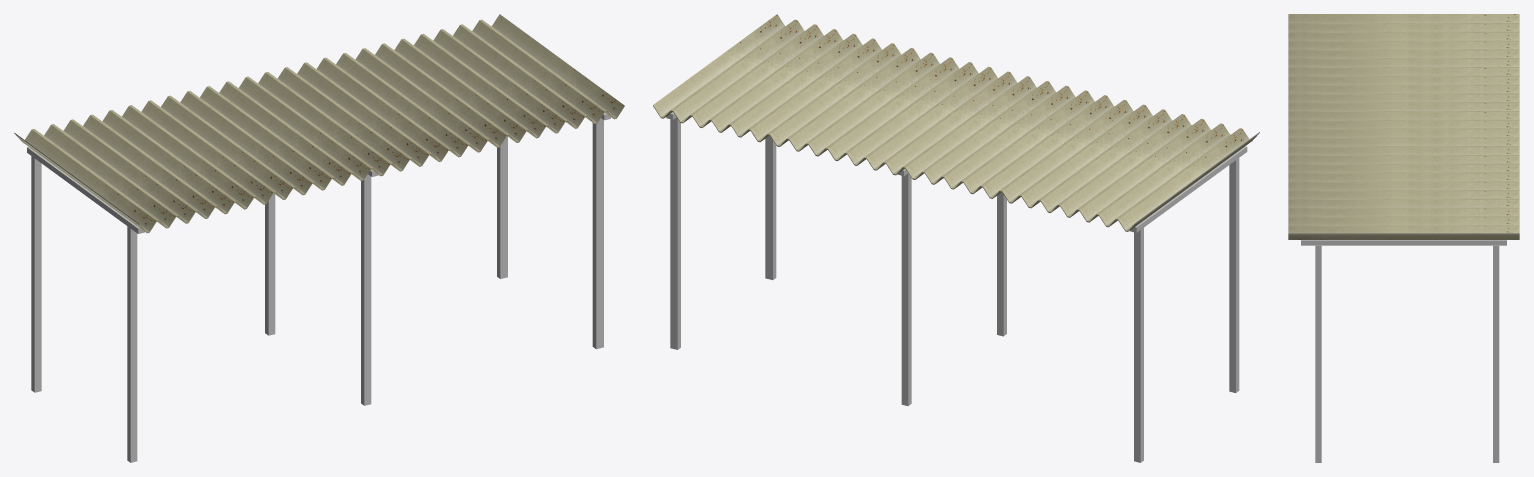
The model's file is raincover02a.fbx.
3 views of the same model, side by side, from view 1: azimuth 30°, elevation 25°; view 2: azimuth 150°, elevation 25°; view 3: azimuth 270°, elevation 25° (orthographic). The views are drawn at different scales.
Visible parts, largest first — view 1: raincover02a; view 2: raincover02a; view 3: raincover02a.
Part boxes in pixels (box(x1,y1,x2,y2)): raincover02a: box(14, 14, 624, 462); raincover02a: box(653, 14, 1259, 462); raincover02a: box(1288, 14, 1519, 462).
Size of the model in its own units: 870 by 430 by 388.
